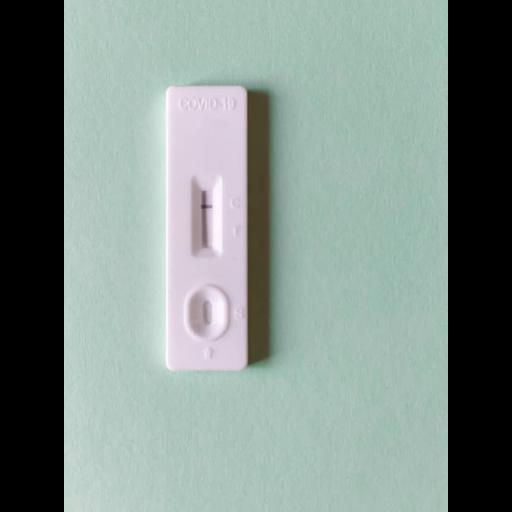Neg: (168, 86, 248, 368)
